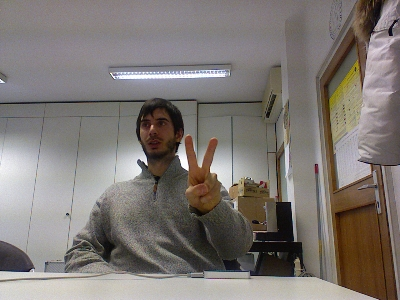剪刀: (182, 133, 223, 213)
